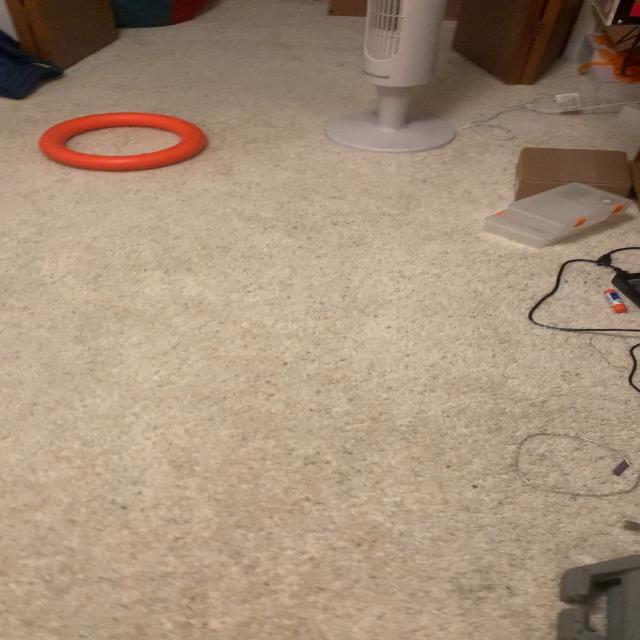notes: (39, 111, 208, 170)
